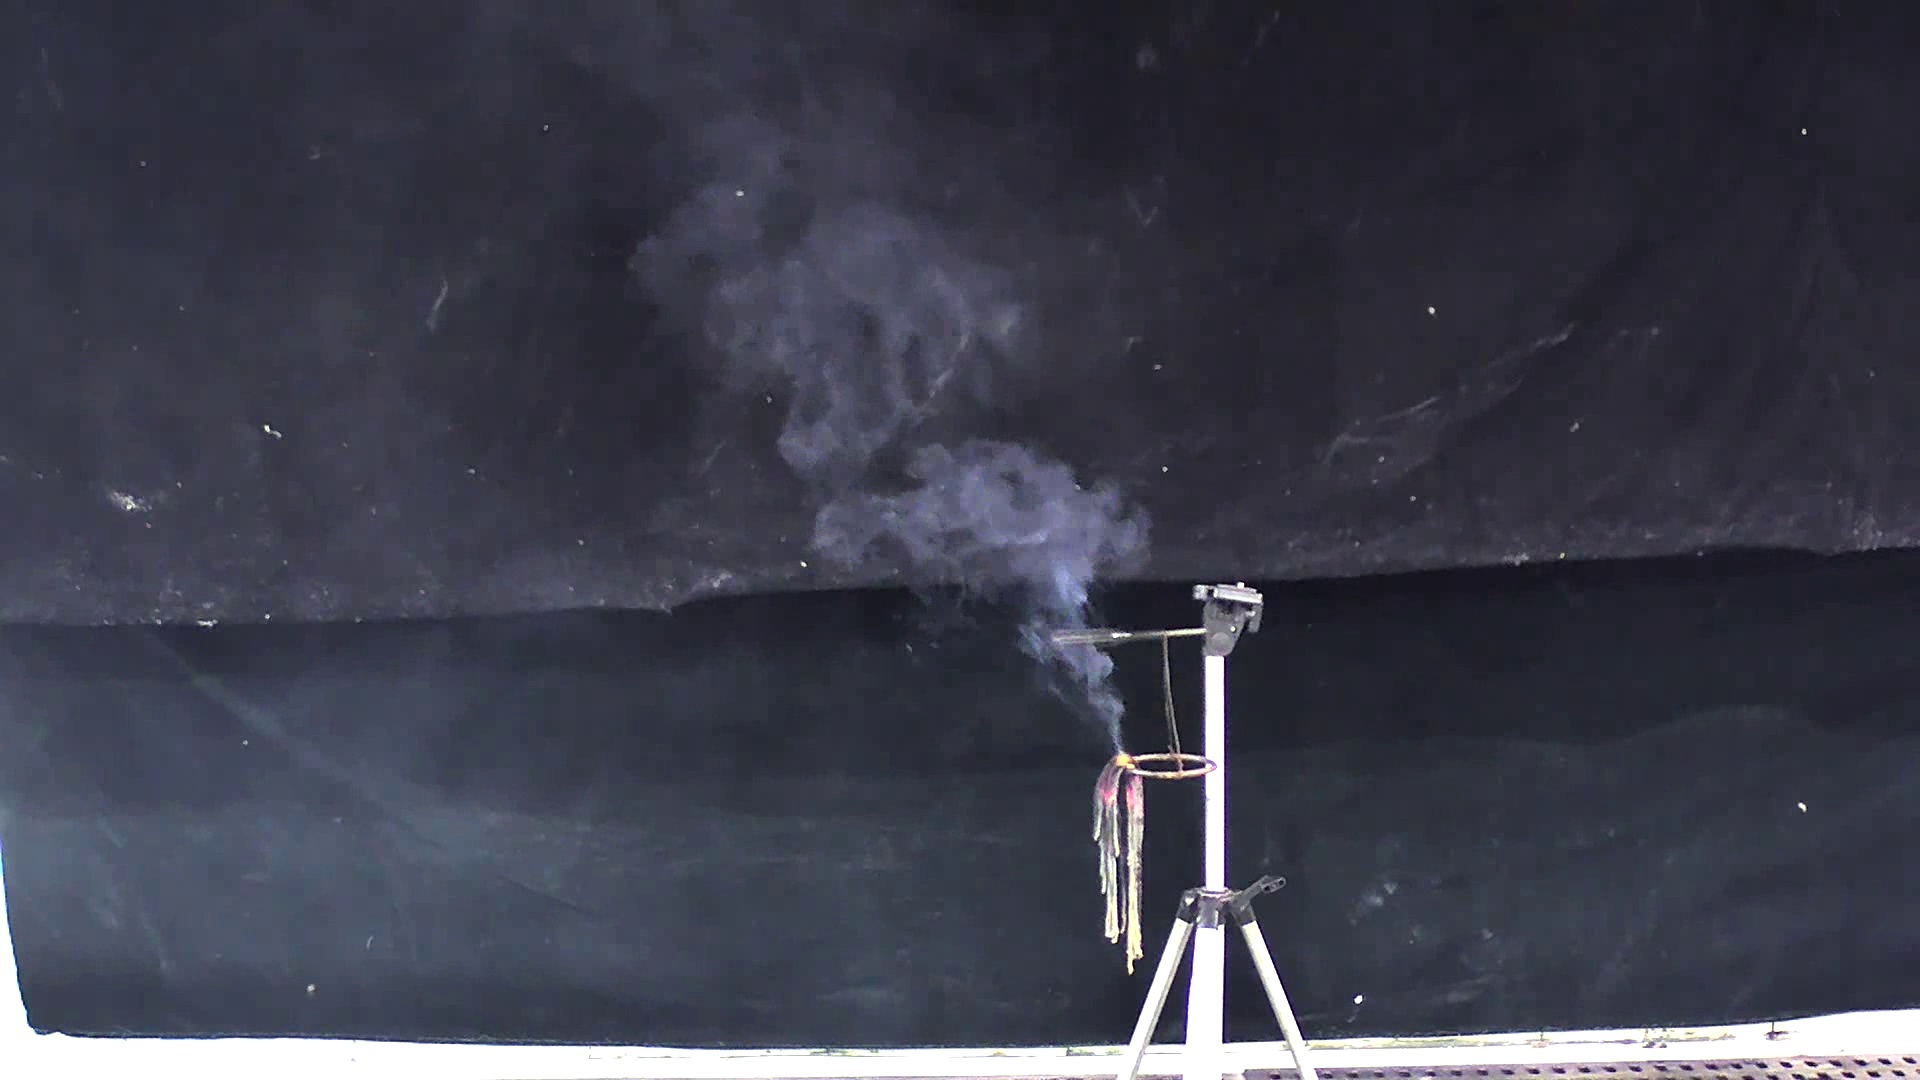smoke: (608, 73, 1168, 756)
